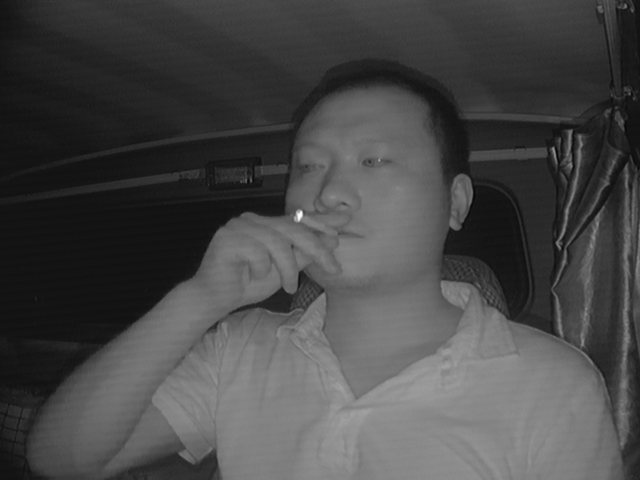hand: (218, 198, 334, 319)
